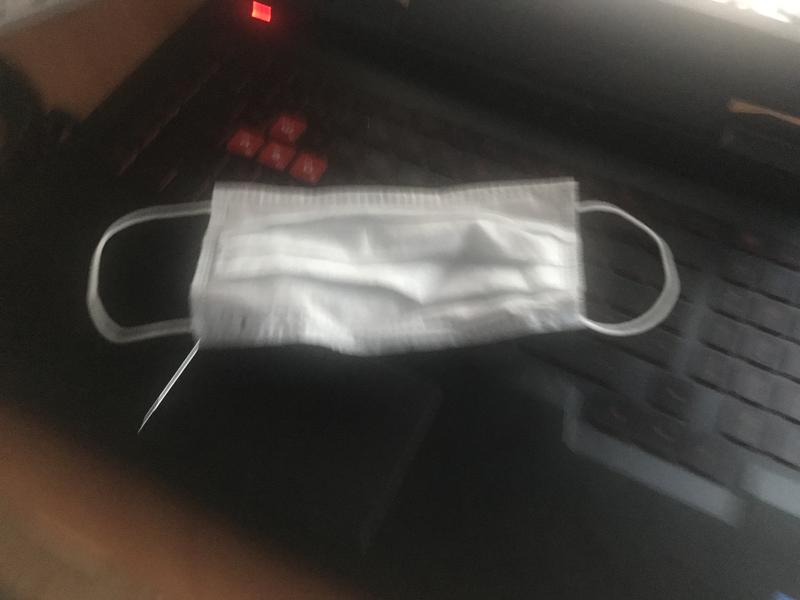medical_mask: (87, 179, 670, 351)
